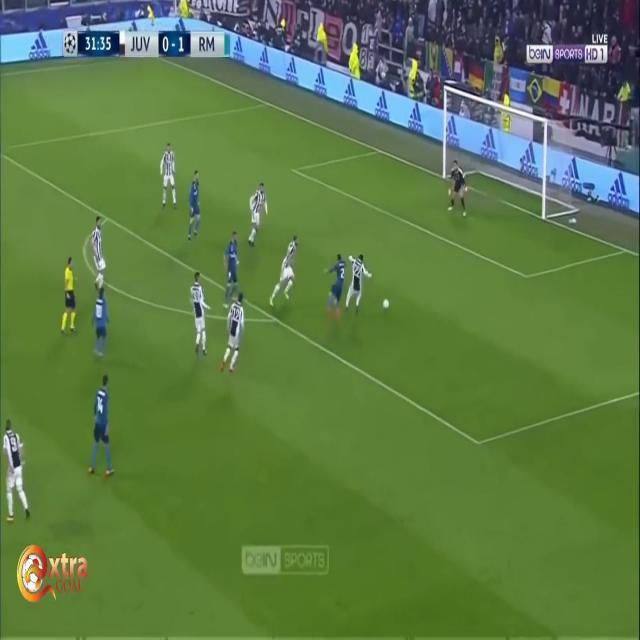ball: (377, 293, 390, 315), (382, 296, 390, 313)
goalkeeper: (445, 157, 473, 222)
player: (2, 414, 32, 525), (87, 372, 115, 485), (223, 291, 248, 379), (188, 270, 211, 358), (278, 232, 303, 306), (345, 246, 367, 317), (247, 180, 268, 250), (159, 143, 180, 212), (222, 226, 241, 301), (88, 215, 107, 290), (186, 168, 205, 242), (93, 287, 112, 360), (329, 249, 349, 315)
referee: (62, 252, 82, 340)
